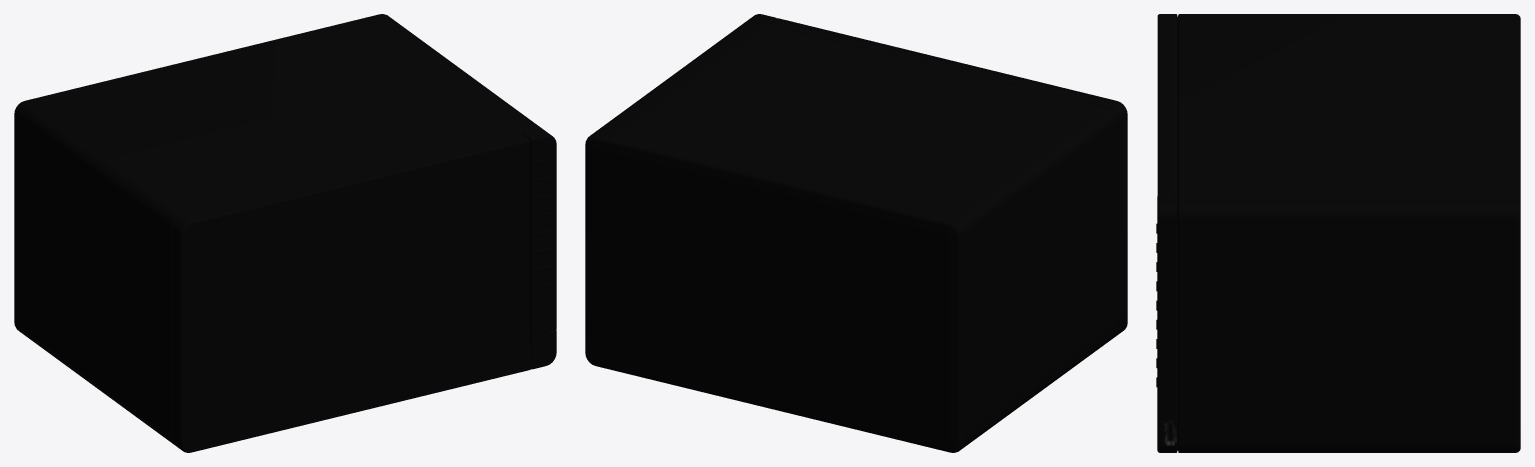
The model's file is electronic_55.001.fbx.
3 renders of one model, left to right at view 1: azimuth 30°, elevation 25°; view 2: azimuth 150°, elevation 25°; view 3: azimuth 270°, elevation 25°, orthographic. The views are drawn at different scales.
Visible parts, largest first — view 1: electronic_55.001; view 2: electronic_55.001; view 3: electronic_55.001.
Boxes of the visible parts, x1,y1,x2,y2 form: electronic_55.001: (14, 14, 556, 452); electronic_55.001: (585, 14, 1127, 452); electronic_55.001: (1156, 14, 1520, 452).
Bounding box in the file's own units: 48.5 × 29.3 × 37.63.
1 material, 1 textured.
